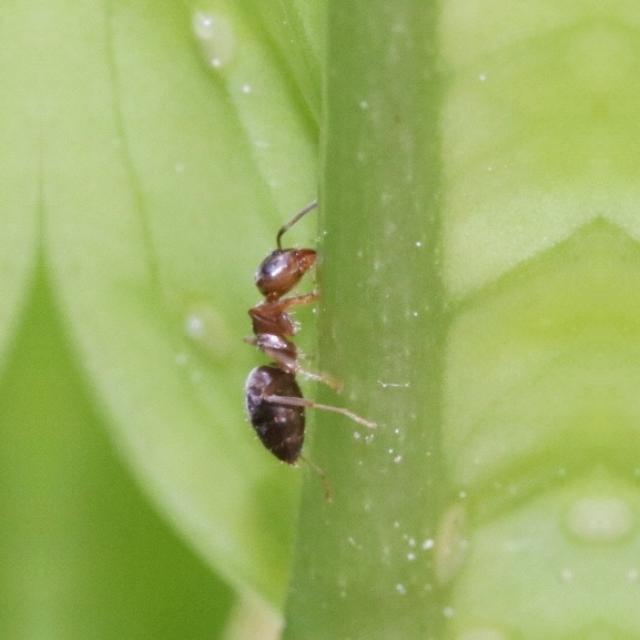Lasius: (215, 195, 365, 487)
